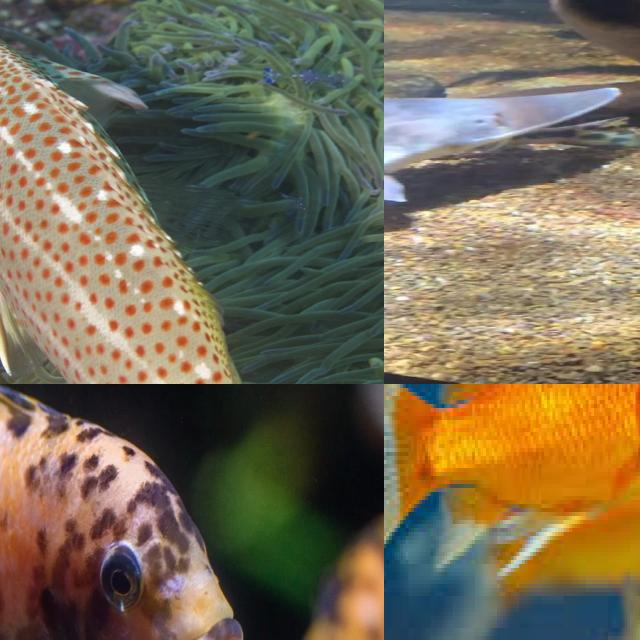fish: (0, 0, 384, 384), (0, 384, 384, 640), (384, 384, 640, 512), (384, 89, 623, 204)
